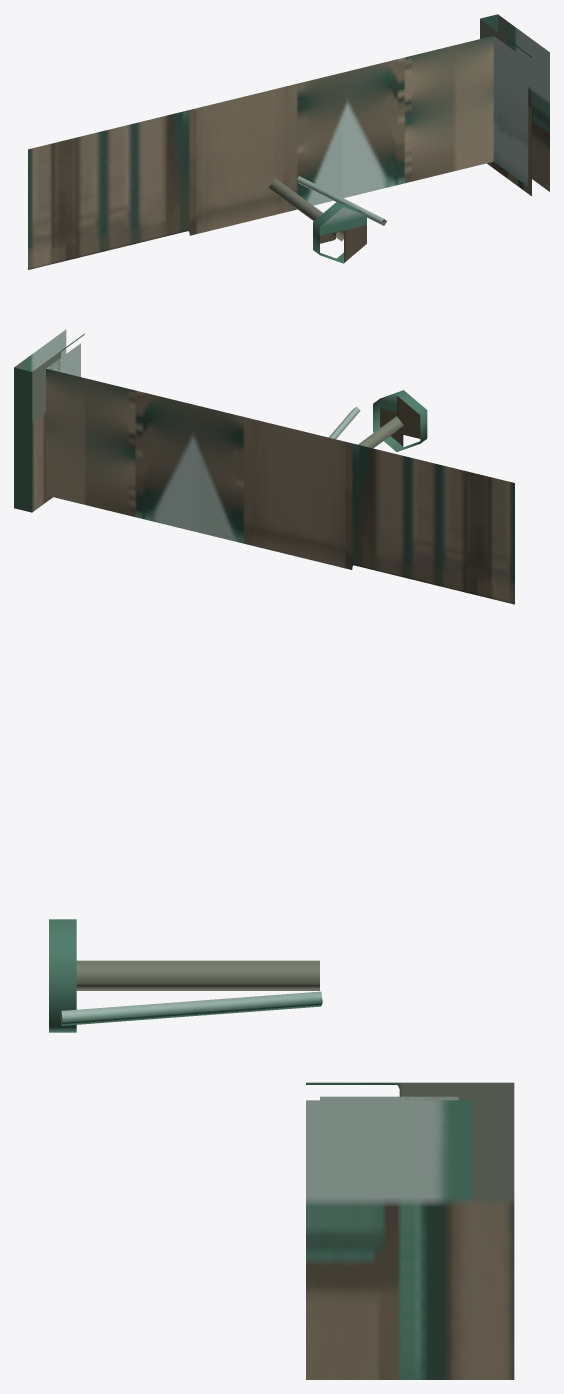
Rendered from section-4.obj.
3 views of the same model, one above another, from view 1: azimuth 30°, elevation 25°; view 2: azimuth 150°, elevation 25°; view 3: azimuth 270°, elevation 25° (orthographic). The views are drawn at different scales.
Size of the model in its own units: 0.804 by 0.222 by 0.3355.
